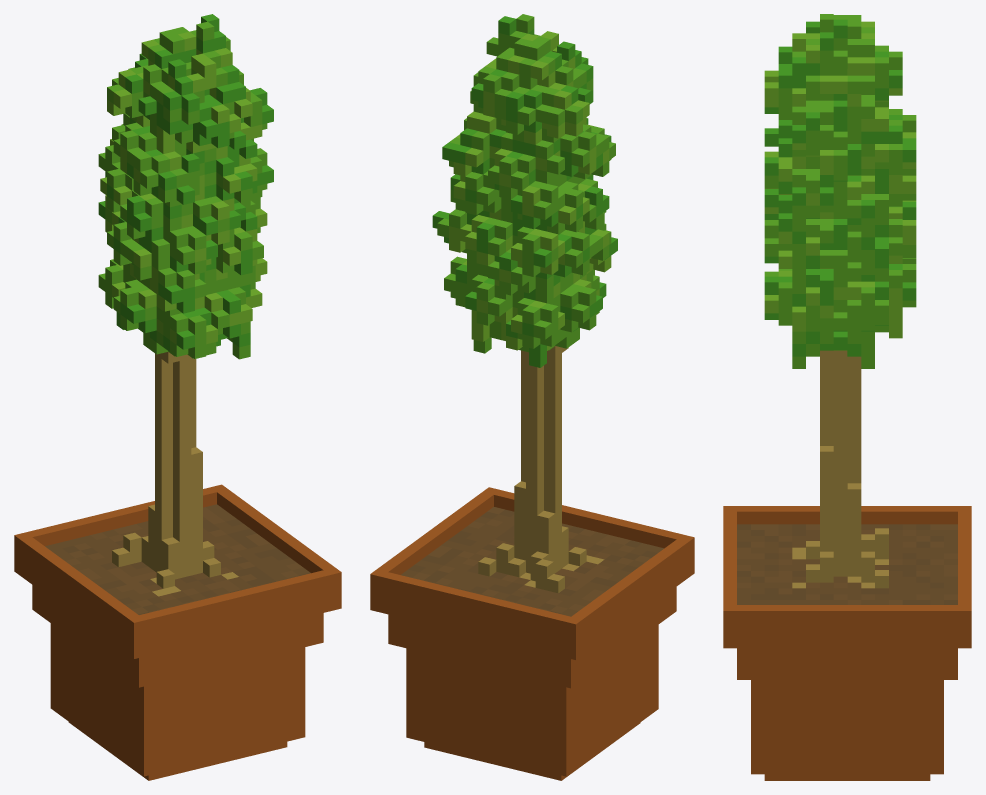
File: bigplant_0_lev1_lev3.glb
The picture shows the model from 3 angles, left to right: view 1: azimuth 30°, elevation 25°; view 2: azimuth 150°, elevation 25°; view 3: azimuth 270°, elevation 25°; orthographic projection. The views are drawn at different scales.
Parts seen in each view (by area): view 1: bigplant_0_lev1_lev3; view 2: bigplant_0_lev1_lev3; view 3: bigplant_0_lev1_lev3.
Boxes of the visible parts, box(x1,y1,x2,y2) form: bigplant_0_lev1_lev3: box(14, 14, 341, 780); bigplant_0_lev1_lev3: box(370, 14, 694, 780); bigplant_0_lev1_lev3: box(723, 14, 971, 780).
Size of the model in its own units: 1.18 by 3.87 by 1.18.
Materials: 1 (1 with a texture image).
